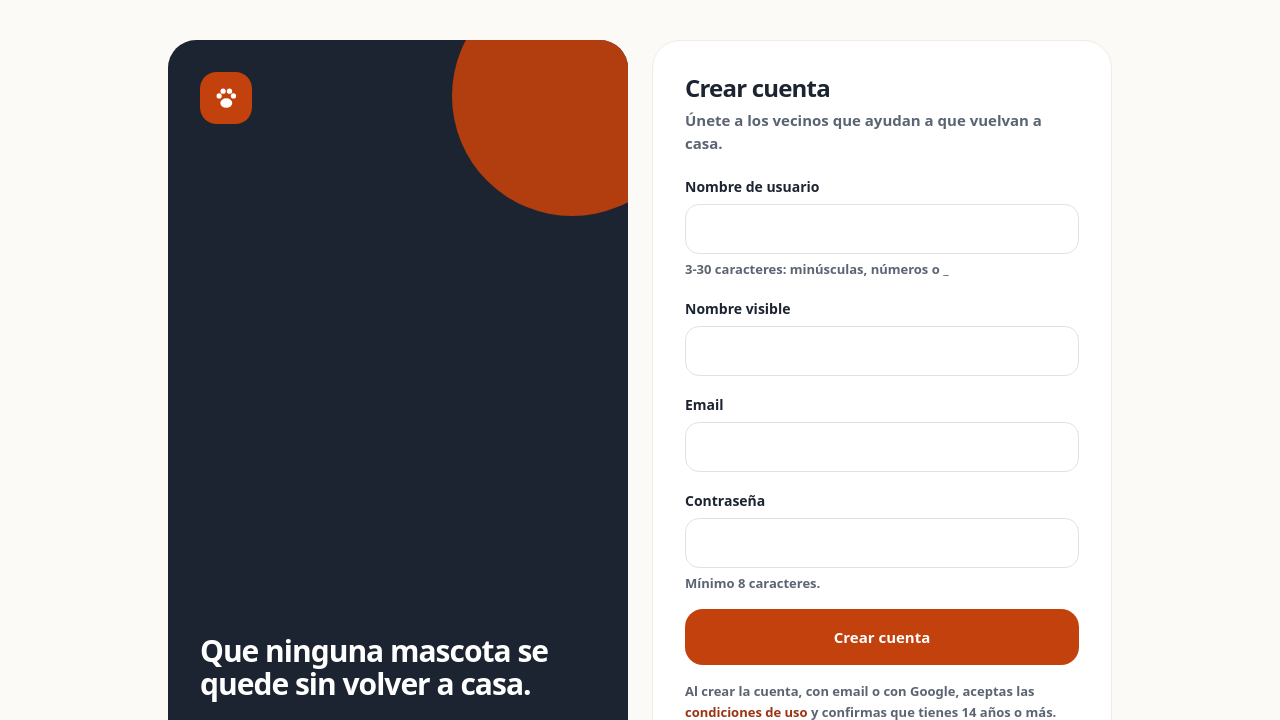
Test: crear cuenta › avisa si el nombre de usuario ya está cogido
Type "nabil" into the field labelled "Nombre de usuario". click: coordinates (882, 229)
box: [685,204,1079,254]
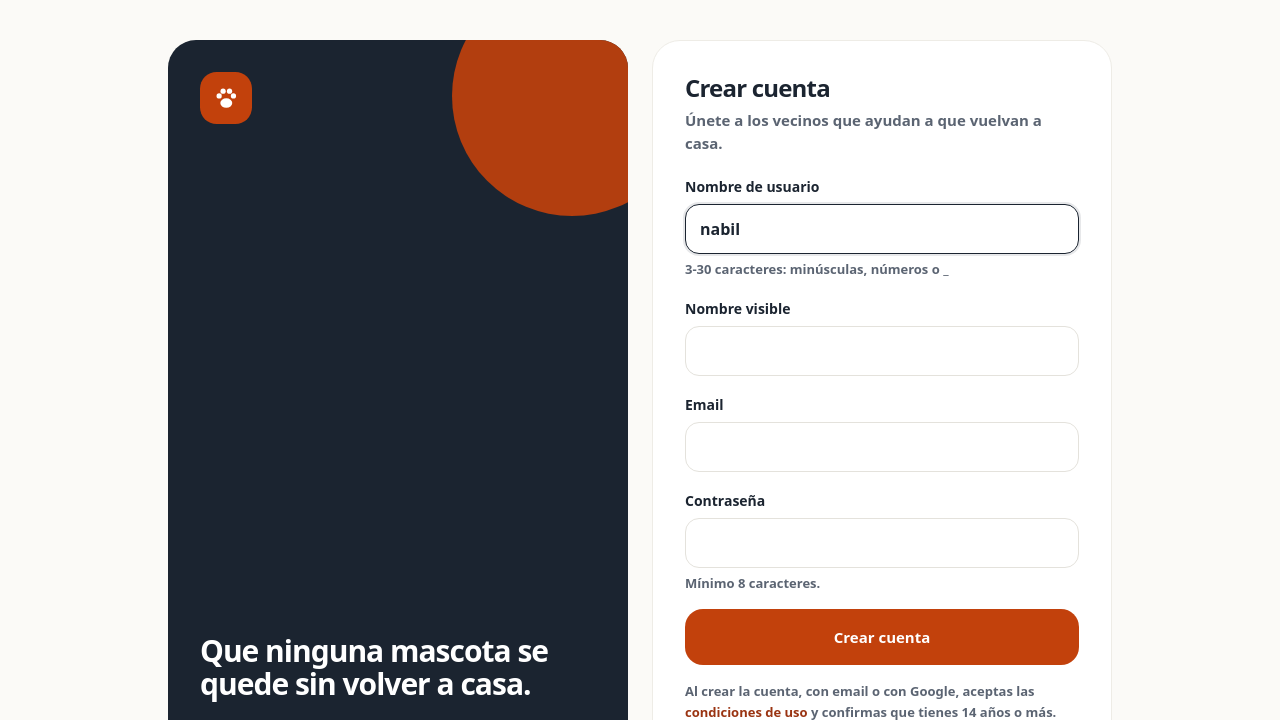
Type "Pau" into the field labelled "Nombre visible". click: coordinates (882, 350)
box: [685,326,1079,376]
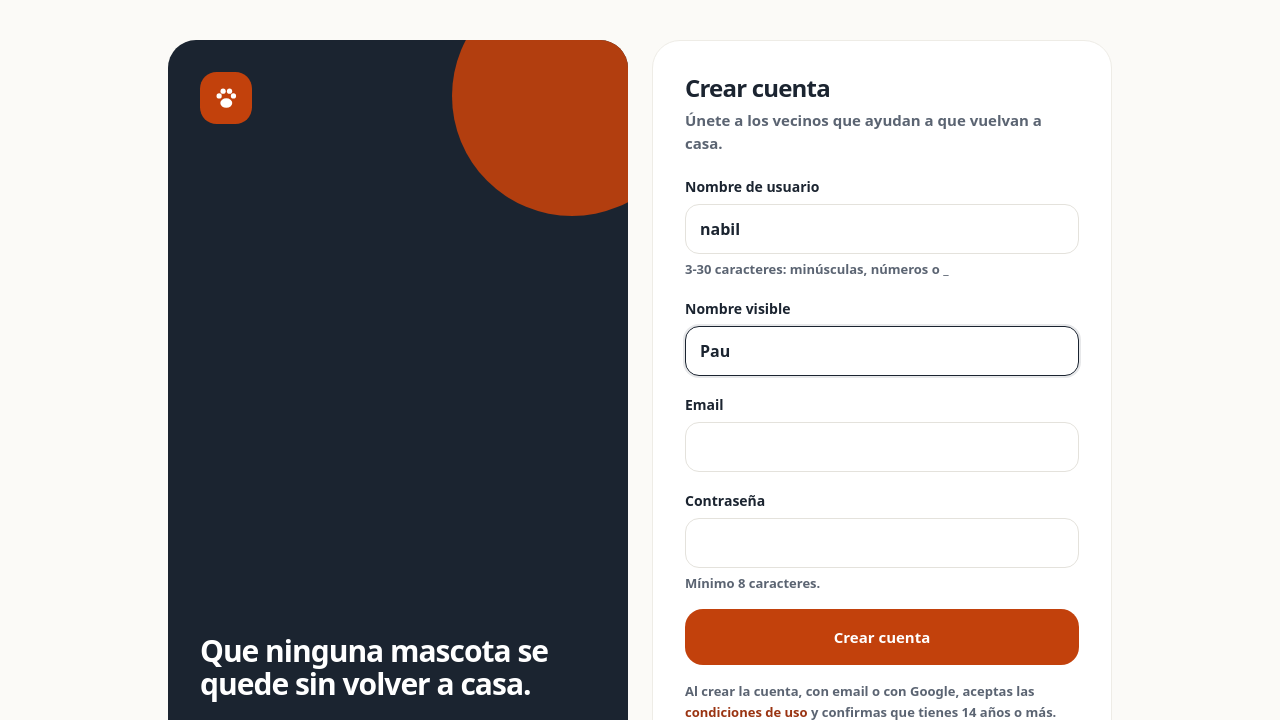
Type "pau@example.test" into the field labelled "Email". click: coordinates (882, 446)
box: [685,422,1079,472]
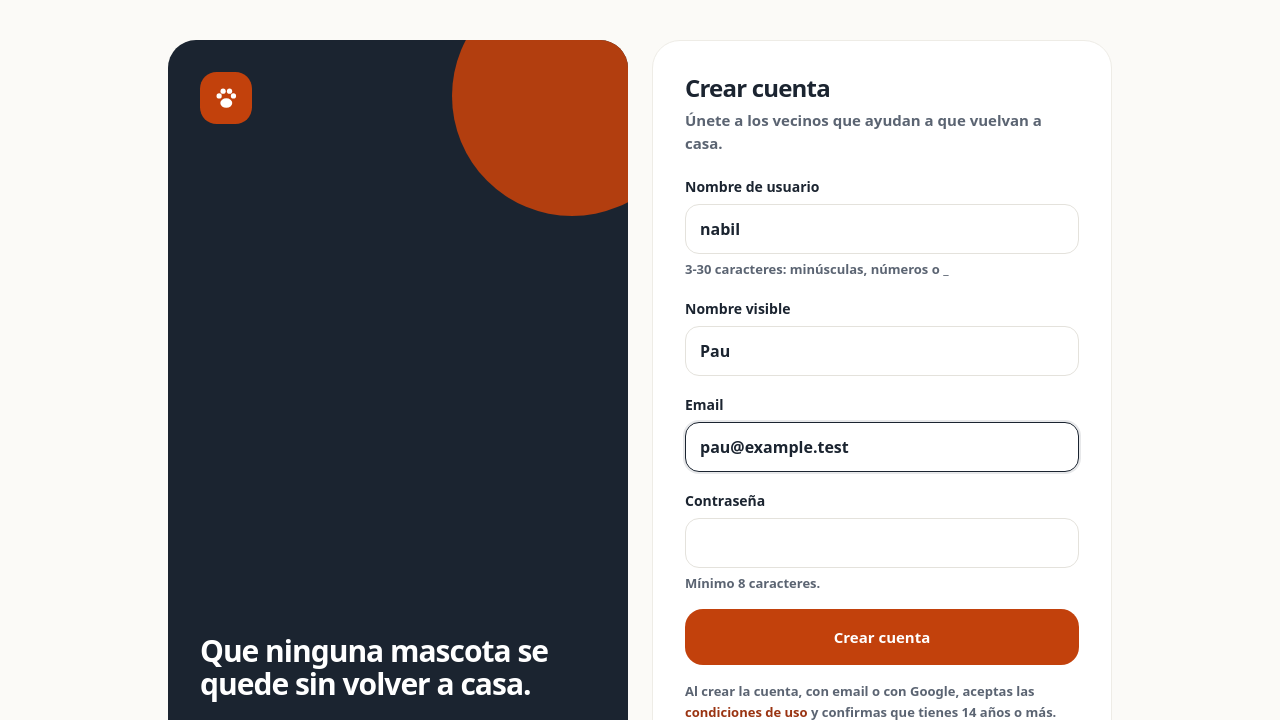
Type "contrasena123" into the password field labelled "Contraseña Mínimo 8 caracteres.". click: coordinates (882, 542)
box: [685,518,1079,568]
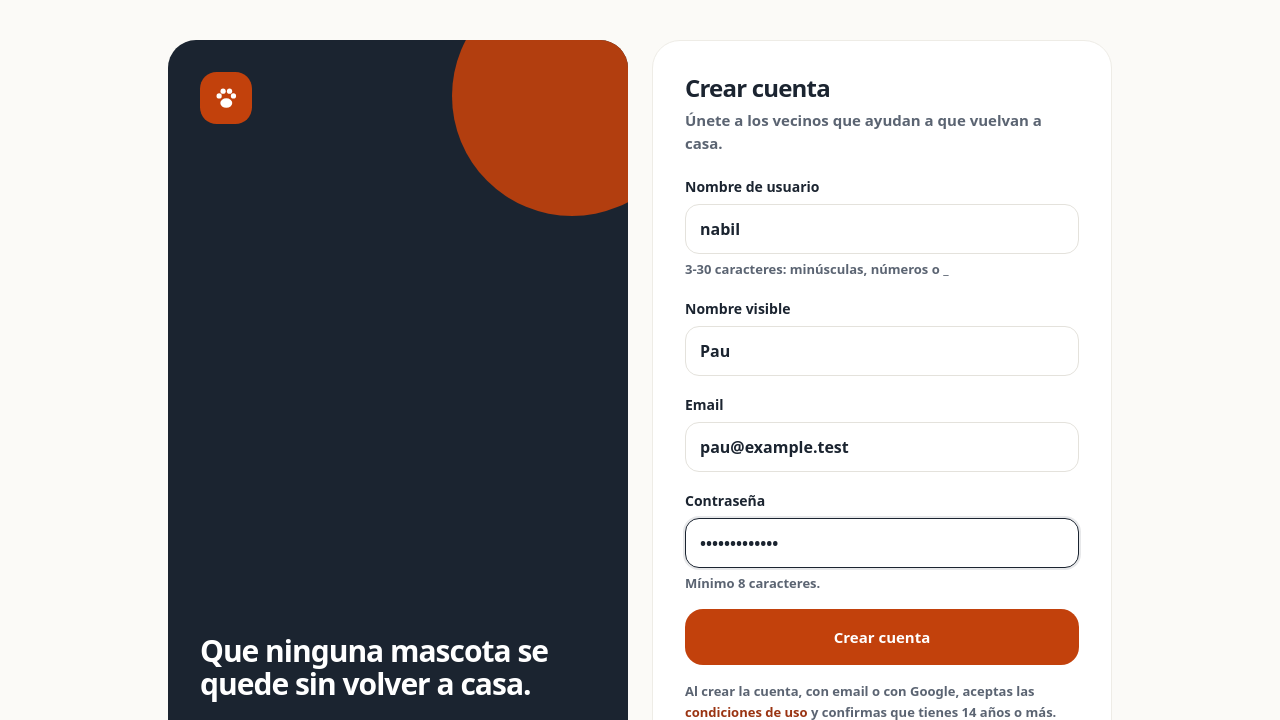
Click the button "Crear cuenta". click: coordinates (882, 637)
box: [685,609,1079,665]
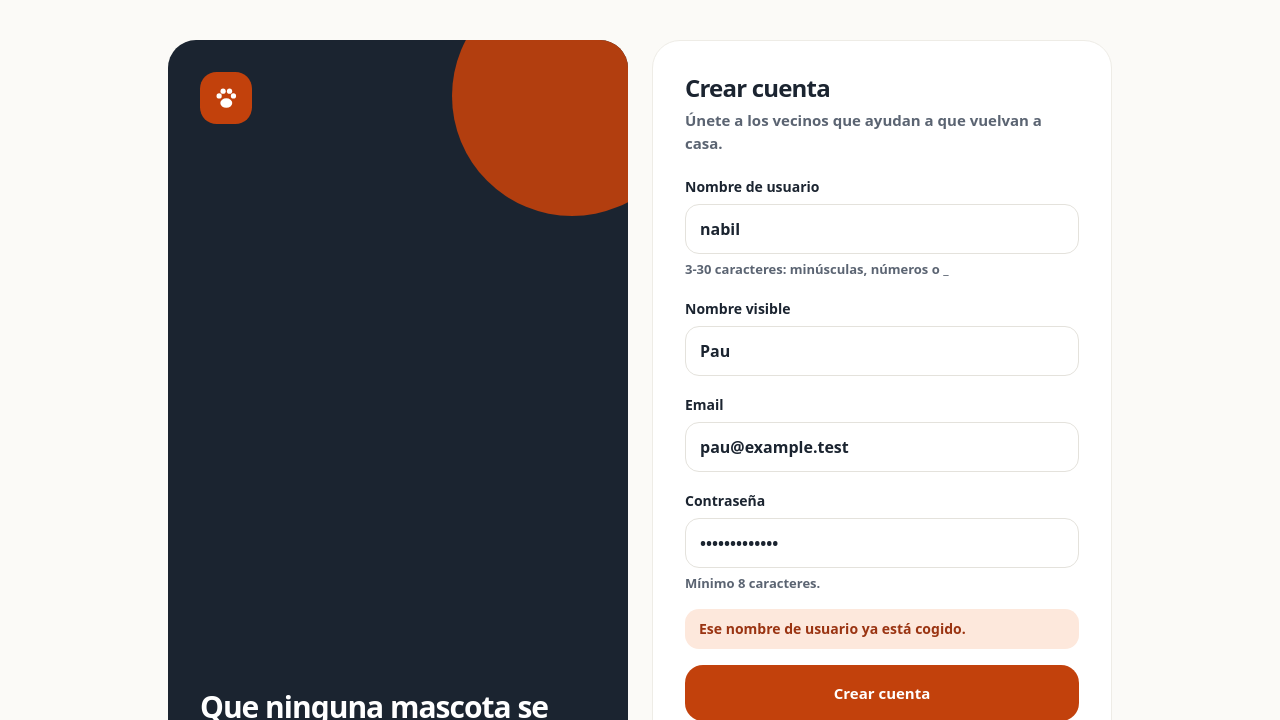
Now the message reads "Ese nombre de usuario ya está cogido.", box [699,619,966,638]
